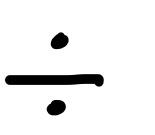div: (6, 32, 103, 116)
